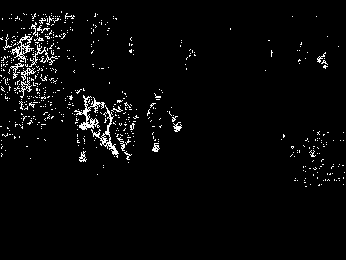person: (80, 94, 119, 161), (146, 88, 182, 156), (111, 98, 137, 166)
